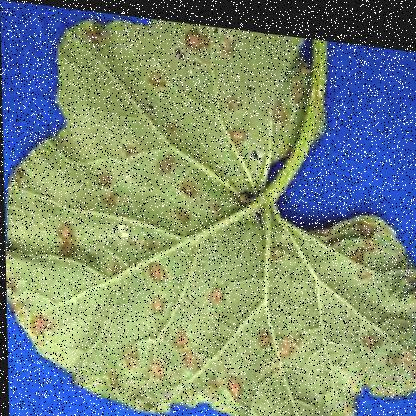Anthracnose: (48, 141, 247, 360), (201, 191, 415, 378), (116, 245, 280, 415), (101, 12, 273, 163)
